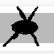not correct: (1, 6, 44, 48)
